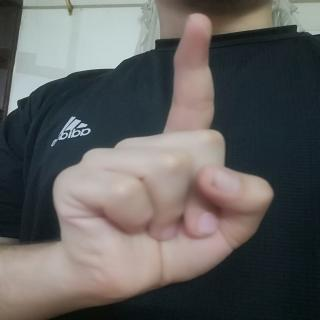BAA: (44, 14, 296, 301)
